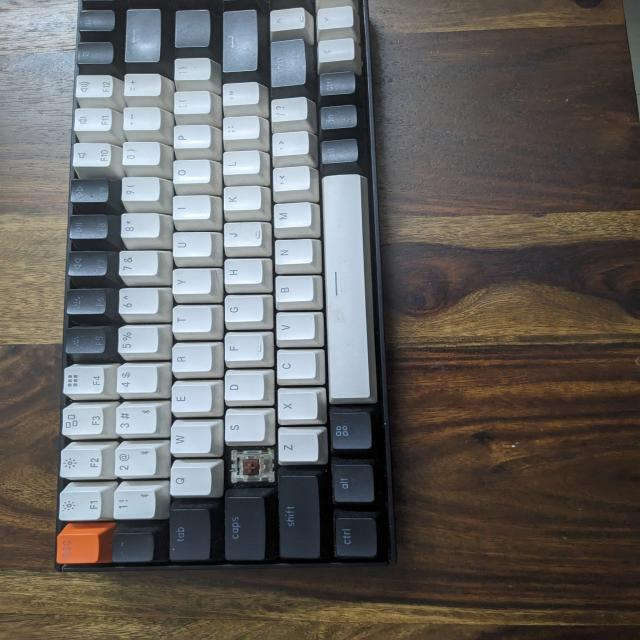C: (228, 447, 276, 485)
